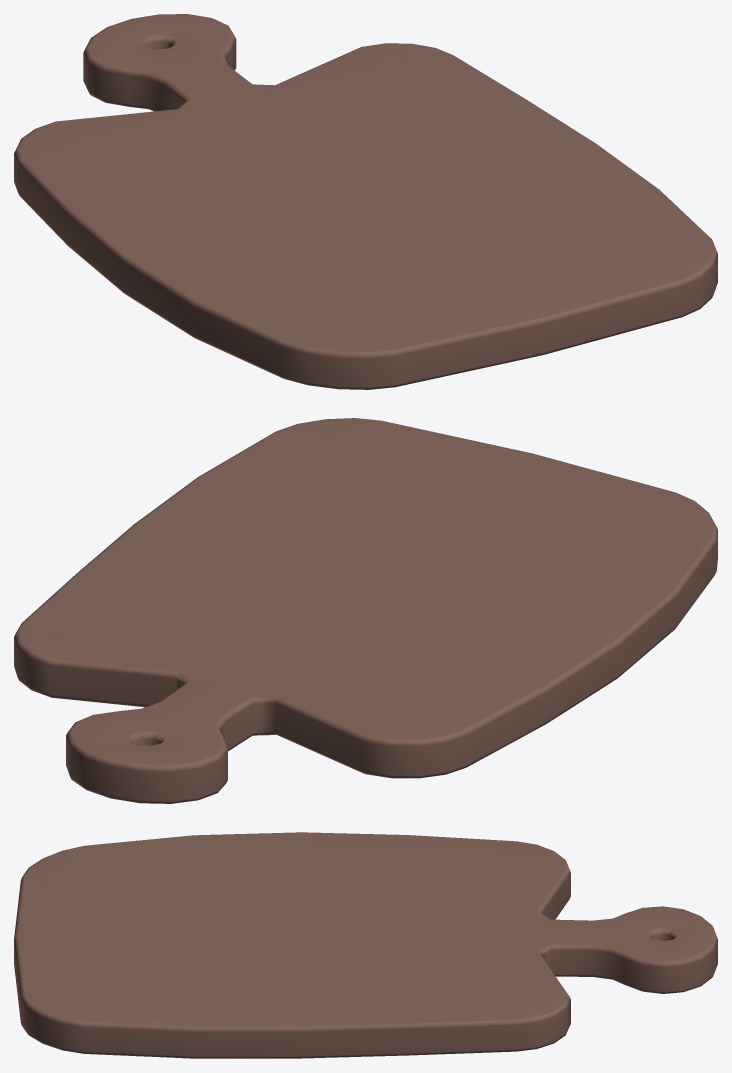
Rendered from SHAVR_SET_CUTTINGBOARD.fbx.
3 renders of one model, top to bottom at view 1: azimuth 30°, elevation 25°; view 2: azimuth 150°, elevation 25°; view 3: azimuth 270°, elevation 25°, orthographic. The views are drawn at different scales.
Visible parts, largest first — view 1: SHAVR_SET_CUTTINGBOARD; view 2: SHAVR_SET_CUTTINGBOARD; view 3: SHAVR_SET_CUTTINGBOARD.
Part boxes in pixels (x1,y1,x2,y2): SHAVR_SET_CUTTINGBOARD: (14, 14, 717, 389); SHAVR_SET_CUTTINGBOARD: (14, 418, 717, 803); SHAVR_SET_CUTTINGBOARD: (14, 832, 717, 1058).
Size of the model in its own units: 0.3757 by 0.0288 by 0.5663.
